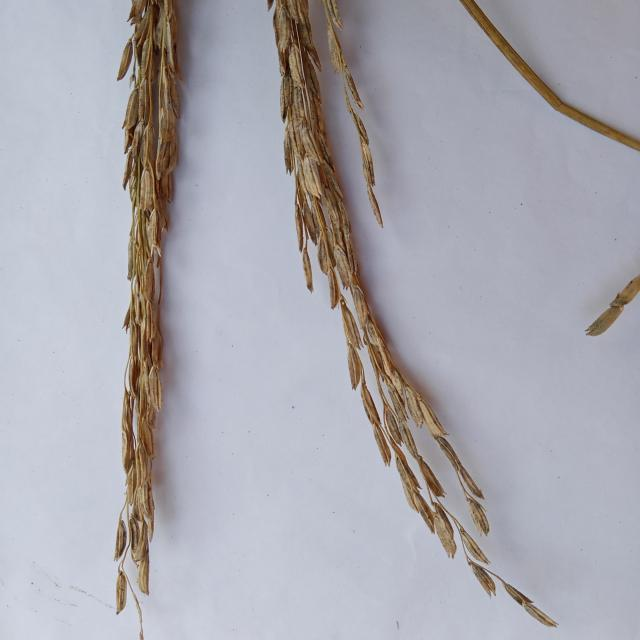Neck_Blast: (276, 1, 432, 460), (116, 5, 177, 561)
